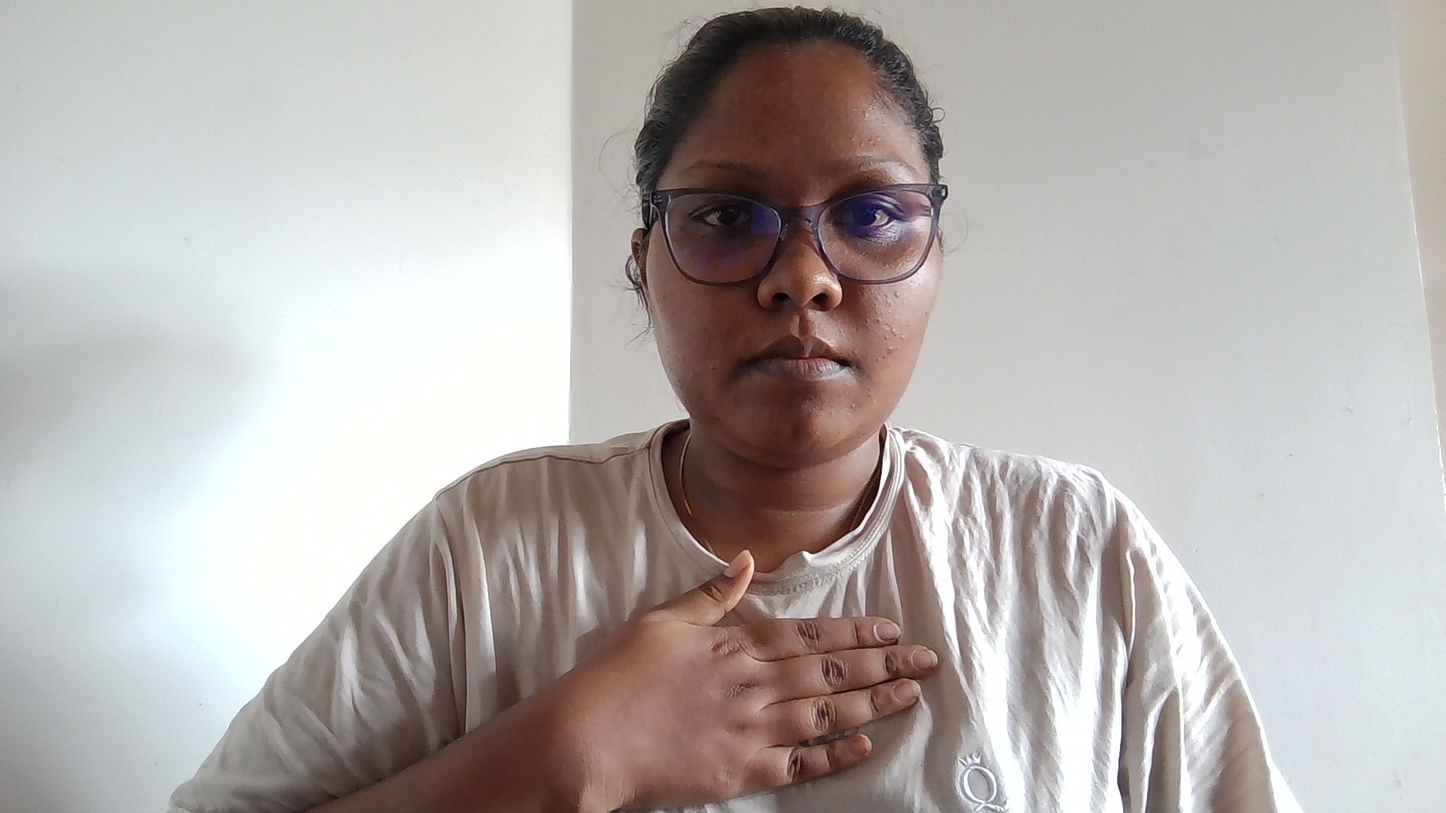Please: (454, 524, 969, 813)
